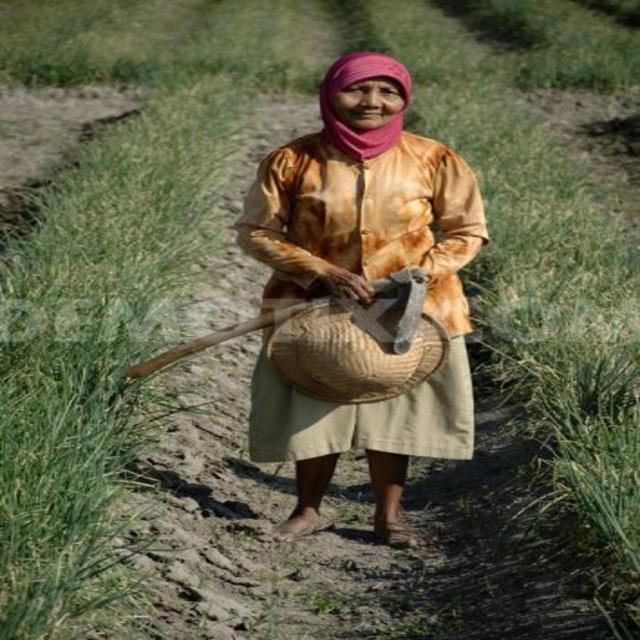Face: (331, 75, 419, 138)
